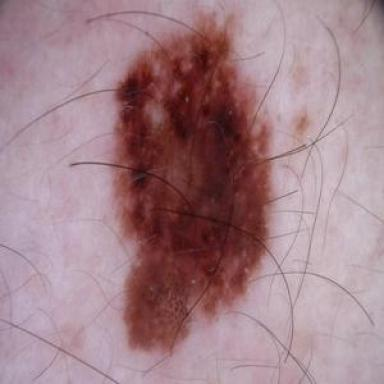Melanoma: (111, 13, 270, 351)
